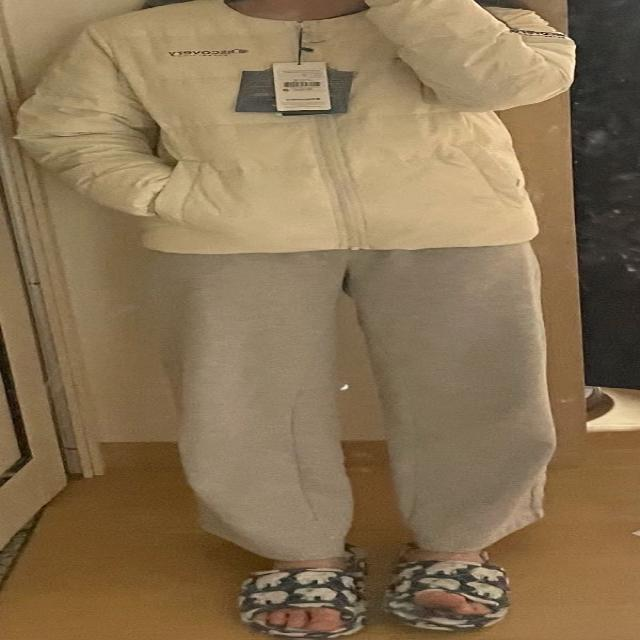padding: (21, 0, 576, 252)
trainingpants: (163, 236, 546, 558)
